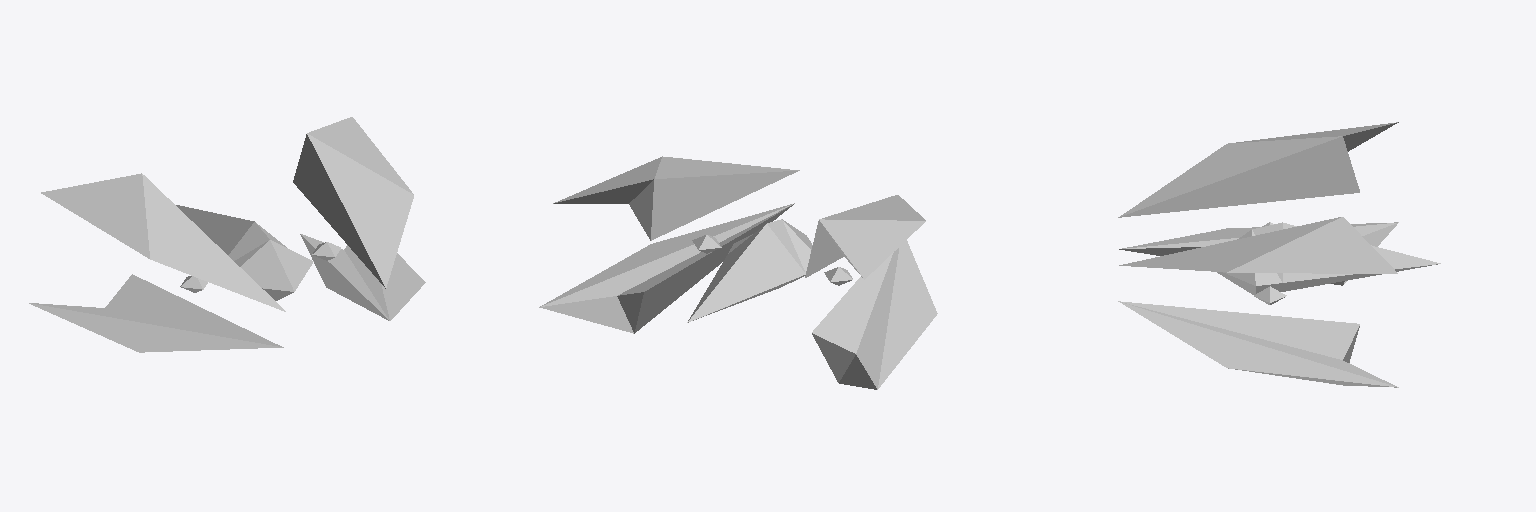
Rendered from player_ship_02.obj.
The picture shows the model from 3 angles: view 1: azimuth 30°, elevation 25°; view 2: azimuth 150°, elevation 25°; view 3: azimuth 270°, elevation 25°; orthographic projection.
Parts seen in each view (by area): view 1: Cube.003; view 2: Cube.003; view 3: Cube.003.
Part boxes in pixels (x1,y1,x2,y2): Cube.003: (29,117,425,352); Cube.003: (539,156,937,389); Cube.003: (1118,122,1440,387).
Size of the model in its own units: 4.76 by 2.14 by 3.94.